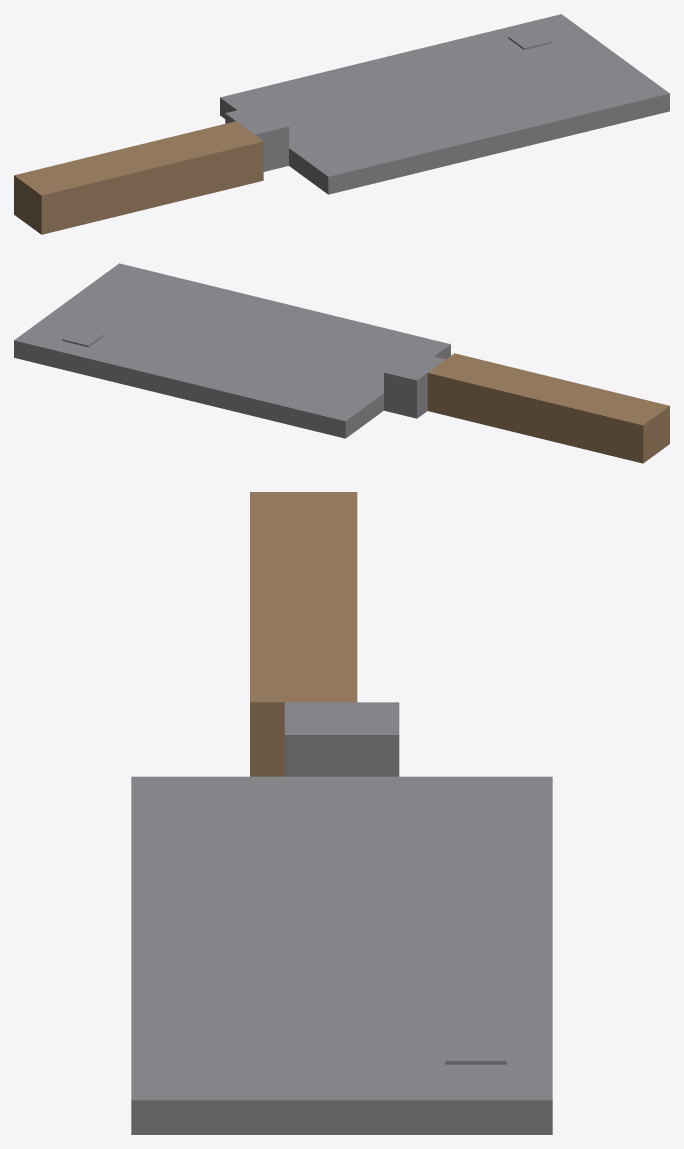
Rendered from prop-cleaver-bt1.fbx.
The picture shows the model from 3 angles, top to bottom: view 1: azimuth 30°, elevation 25°; view 2: azimuth 150°, elevation 25°; view 3: azimuth 270°, elevation 25°; orthographic projection. The views are drawn at different scales.
Parts seen in each view (by area): view 1: prop-cleaver-bt1; view 2: prop-cleaver-bt1; view 3: prop-cleaver-bt1.
Part boxes in pixels (x1,y1,x2,y2): prop-cleaver-bt1: (14,14,669,234); prop-cleaver-bt1: (14,263,669,463); prop-cleaver-bt1: (131,492,552,1134).
Bounding box in the file's own units: 35 × 2.2 × 11.
